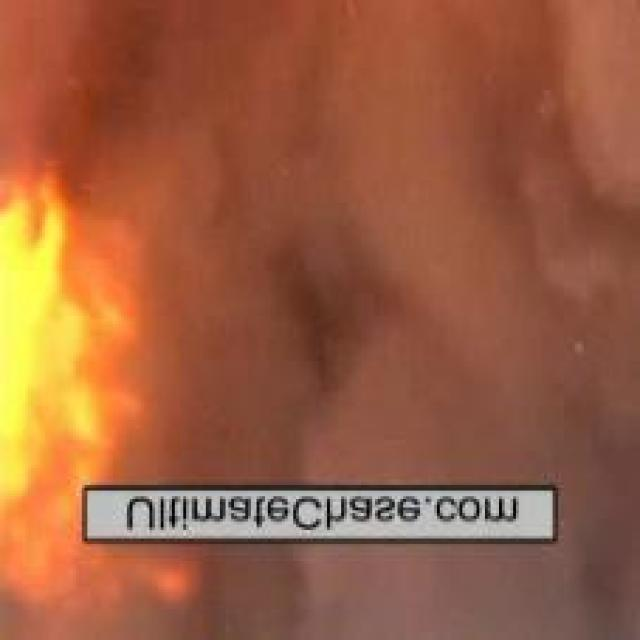fire: (1, 187, 119, 500)
smoke: (94, 14, 603, 610)
